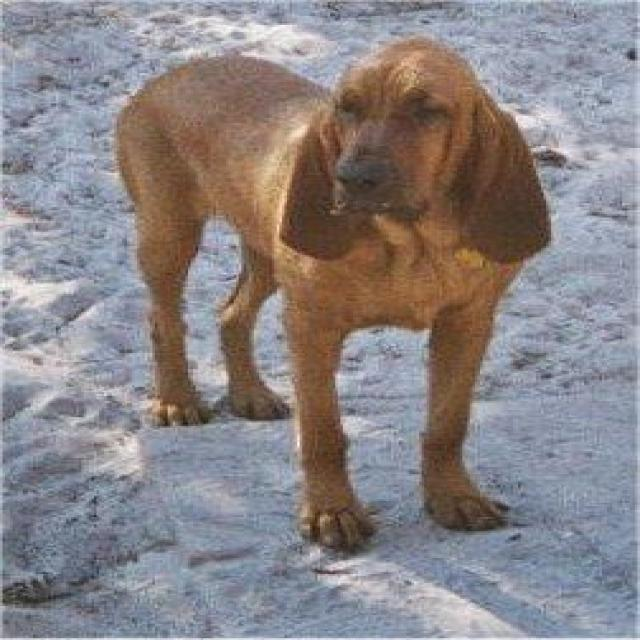good: (101, 39, 558, 548)
